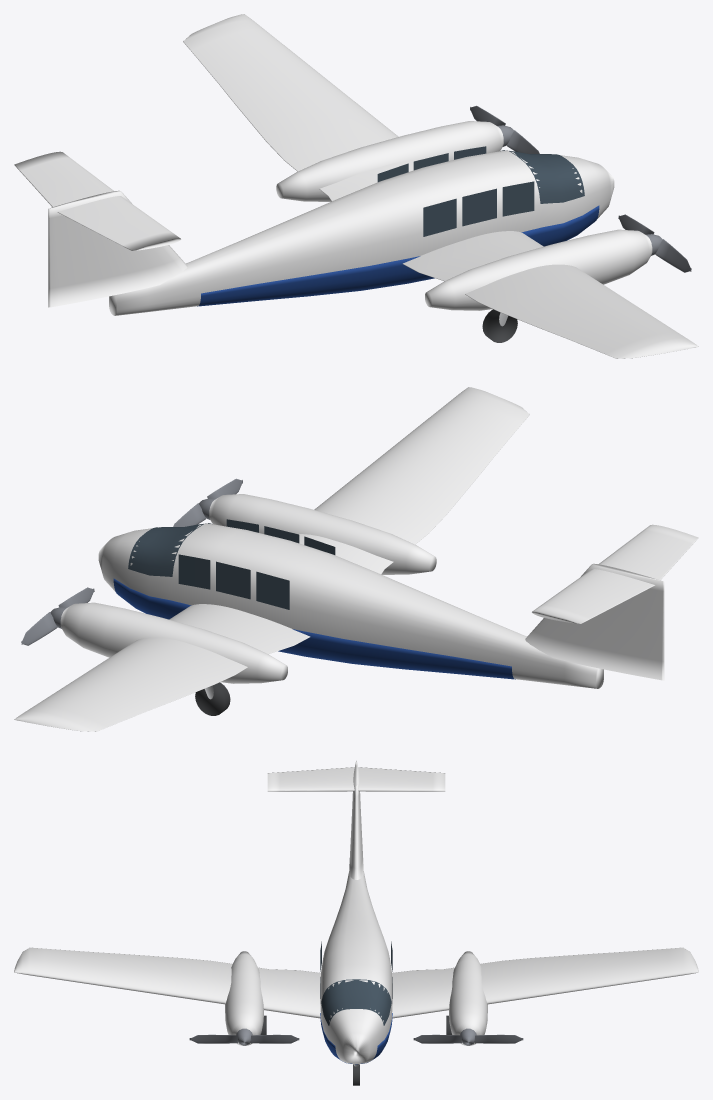
The model's file is seminole-like-own.glb.
The picture shows the model from 3 angles, top to bottom: view 1: azimuth 30°, elevation 25°; view 2: azimuth 150°, elevation 25°; view 3: azimuth 270°, elevation 25°; orthographic projection. The views are drawn at different scales.
Parts seen in each view (by area): view 1: Fuselage, Wing1, Wing-1, Fin, Nacelle-1, Stabilator, Nacelle1, Belly, Windscreen, Window-1_1, Window-1_2, Window-1_0 (+2 smaller); view 2: Fuselage, Wing-1, Wing1, Fin, Nacelle1, Stabilator, Nacelle-1, Belly, Windscreen, Window1_1, Window1_2, Window1_0 (+2 smaller); view 3: Wing-1, Wing1, Fuselage, Stabilator, Nacelle1, Nacelle-1, Windscreen, Fin.
Part boxes in pixels (bbox=[...]): Fuselage: bbox=[109, 150, 614, 315]; Wing1: bbox=[183, 14, 414, 201]; Wing-1: bbox=[402, 231, 698, 358]; Fin: bbox=[48, 190, 187, 307]; Nacelle-1: bbox=[425, 229, 652, 310]; Stabilator: bbox=[14, 151, 180, 250]; Nacelle1: bbox=[276, 121, 503, 201]; Belly: bbox=[197, 205, 599, 306]; Windscreen: bbox=[501, 150, 584, 203]; Window-1_1: bbox=[462, 188, 496, 226]; Window-1_2: bbox=[423, 198, 456, 236]; Window-1_0: bbox=[502, 181, 534, 216]; Fuselage: bbox=[98, 523, 603, 688]; Wing-1: bbox=[298, 387, 529, 574]; Wing1: bbox=[14, 604, 310, 731]; Fin: bbox=[525, 563, 664, 680]; Nacelle1: bbox=[60, 602, 287, 683]; Stabilator: bbox=[532, 524, 698, 623]; Nacelle-1: bbox=[209, 494, 436, 574]; Belly: bbox=[113, 578, 515, 679]; Windscreen: bbox=[128, 523, 211, 576]; Window1_1: bbox=[216, 561, 250, 599]; Window1_2: bbox=[256, 571, 289, 609]; Window1_0: bbox=[178, 554, 210, 589]; Wing-1: bbox=[14, 947, 320, 1018]; Wing1: bbox=[392, 947, 698, 1018]; Fuselage: bbox=[320, 871, 392, 1063]; Stabilator: bbox=[267, 767, 445, 791]; Nacelle1: bbox=[449, 951, 487, 1045]; Nacelle-1: bbox=[225, 951, 263, 1045]; Windscreen: bbox=[321, 979, 391, 1025]; Fin: bbox=[349, 760, 363, 879].
Bounding box in the file's own units: 8.41 × 2.59 × 11.74.
